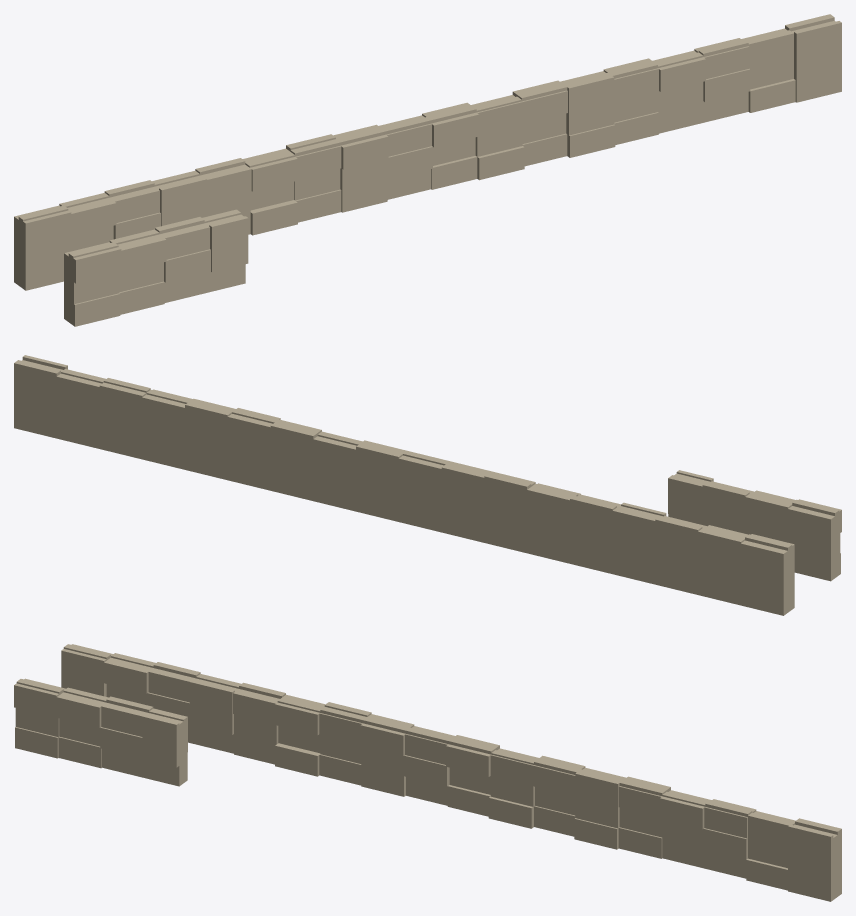
File: Cтены.FBX
The picture shows the model from 3 angles, top to bottom: view 1: azimuth 30°, elevation 25°; view 2: azimuth 150°, elevation 25°; view 3: azimuth 330°, elevation 25°; orthographic projection. The views are drawn at different scales.
Parts seen in each view (by area): view 1: Box053, Box050; view 2: Box053, Box050; view 3: Box053, Box050.
Boxes of the visible parts, <box> form: Box053: <box>14,14,841,290</box>; Box050: <box>64,209,248,326</box>; Box053: <box>14,355,794,615</box>; Box050: <box>668,470,841,581</box>; Box053: <box>61,644,841,901</box>; Box050: <box>14,678,187,786</box>.
Size of the model in its own units: 520 by 43 by 68.29.
